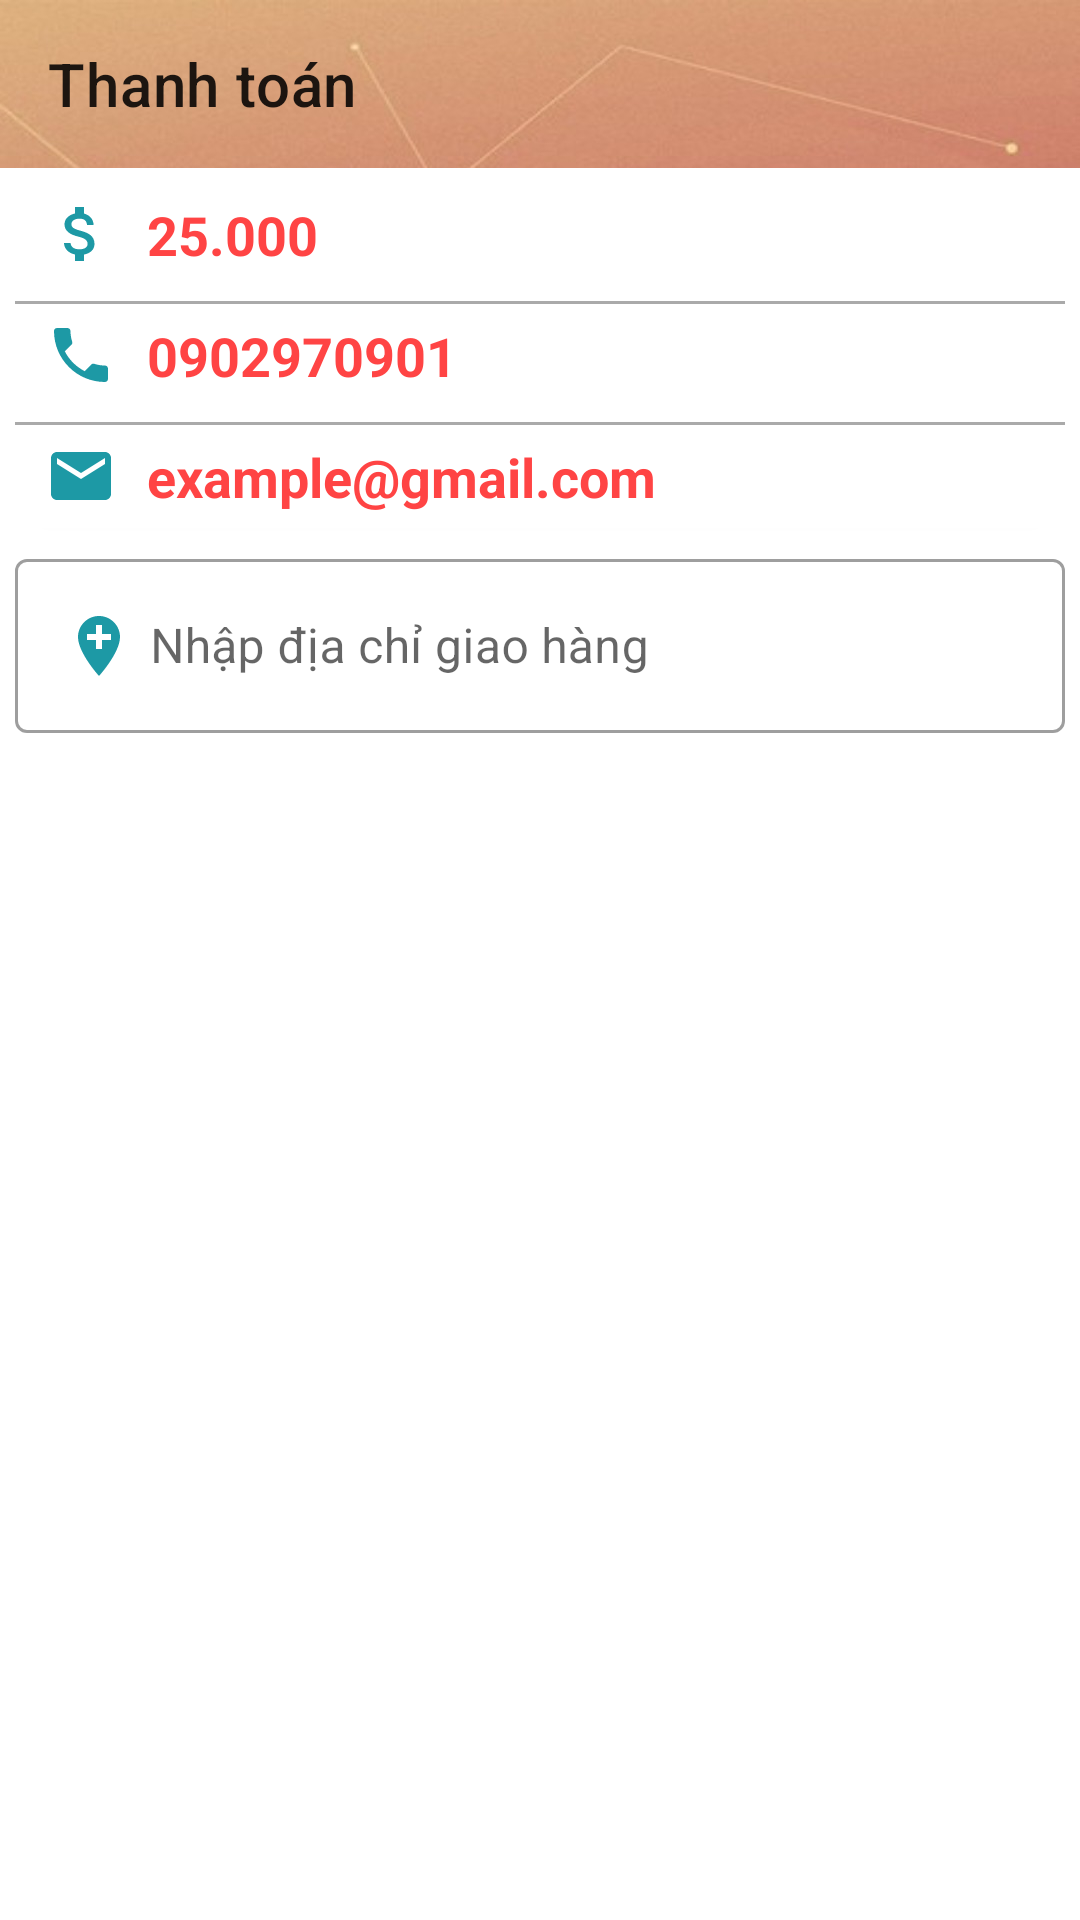

Where to tap for icons on this 1080px×1920px app screen, as point (x, y):
local email: point (81, 476)
local money: point (79, 234)
local phone: point (81, 355)
